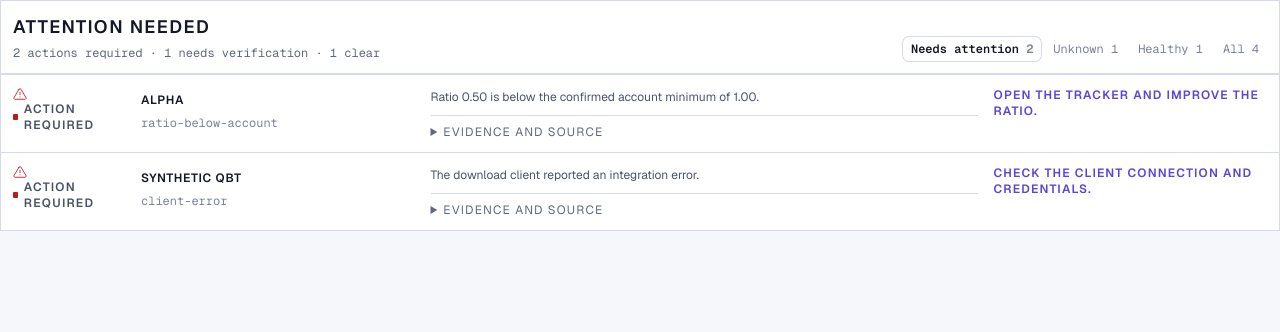
Test case: AttentionNeeded › shows evidence through progressive disclosure
Click the heading "Evidence and source" next to "ratio-below-account": (523, 132) [443,124,604,140]
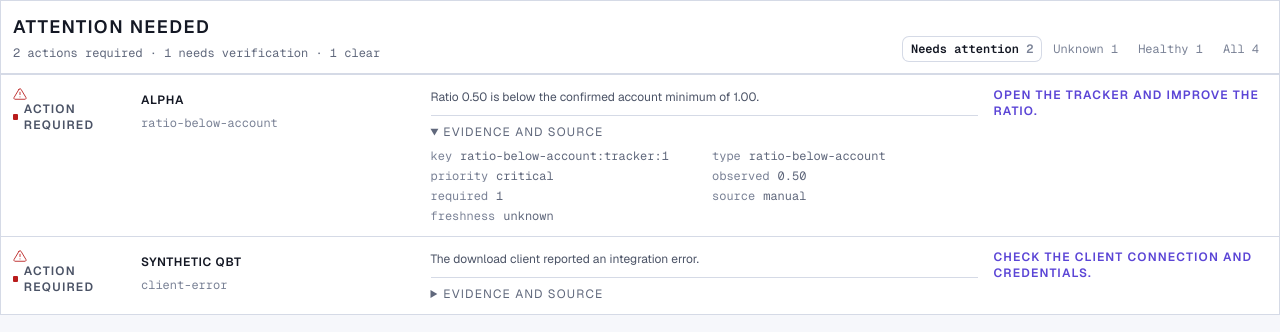
Expected: the text "ratio-below-account:tracker:1" is shown, [460,148,669,164]
Expected: the text "manual" is shown, [763,188,806,204]
